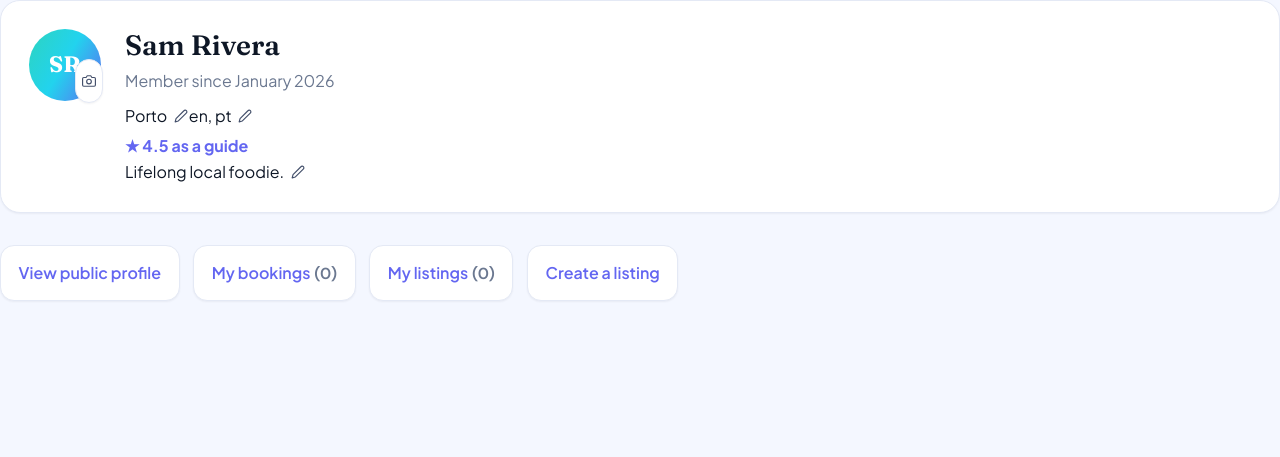
Test: Profile › shows an inline error and keeps the pencil available when a save fails
This screenshot has width=1280, height=457.
Click the button named "Edit city": [181, 116] box [159,94,203,138]
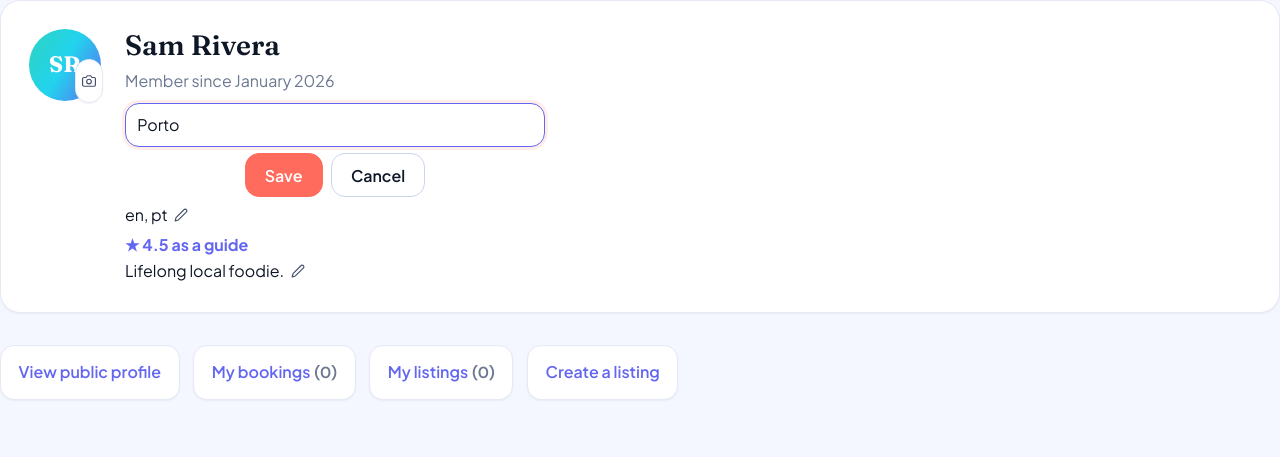
Click the button "Save": [284, 175] box [245,153,323,197]
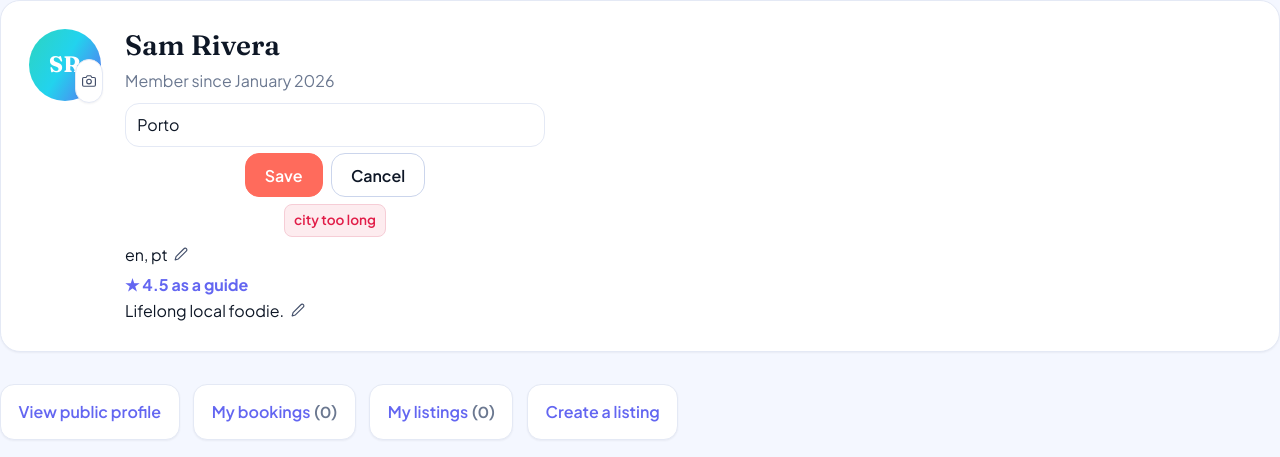
Expected: the message reads "city too long", [294,211,376,228]
